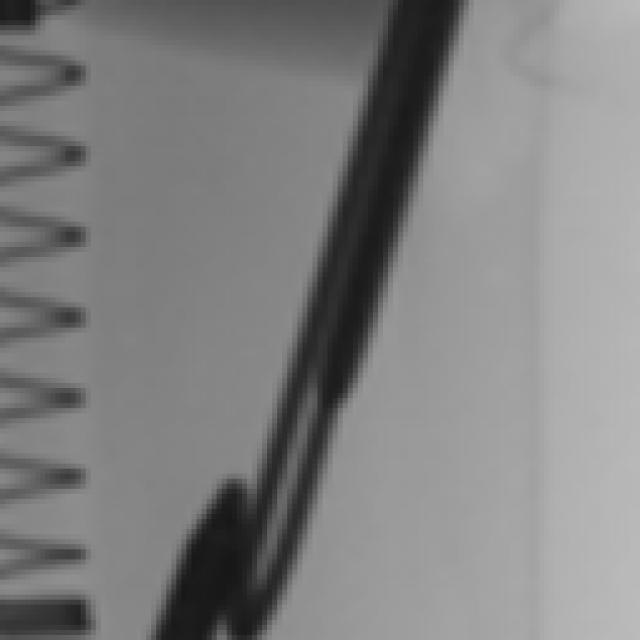BLADE: (180, 321, 377, 640)
